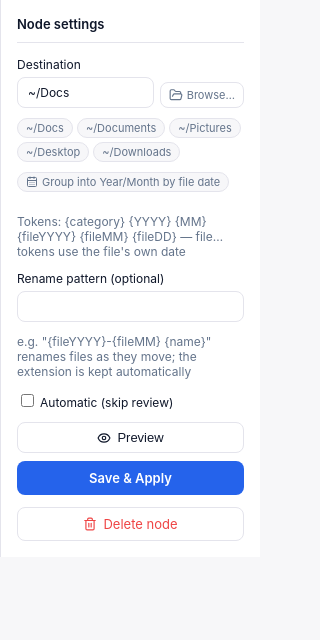
Test: ConfigPanel › shows an error message when setPipeline rejects
Click the button "Save & Apply": (130, 478) 17,461 -> 244,495
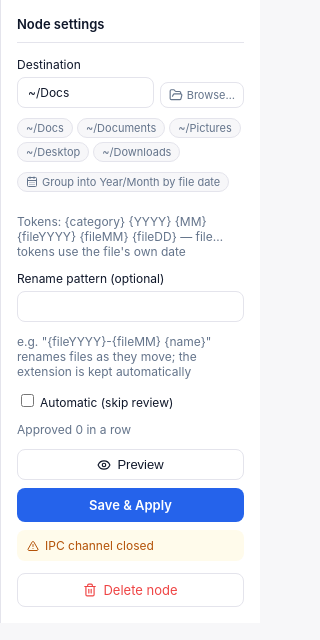
Check: the text "IPC channel closed" is shown, box 27,538 -> 154,553
